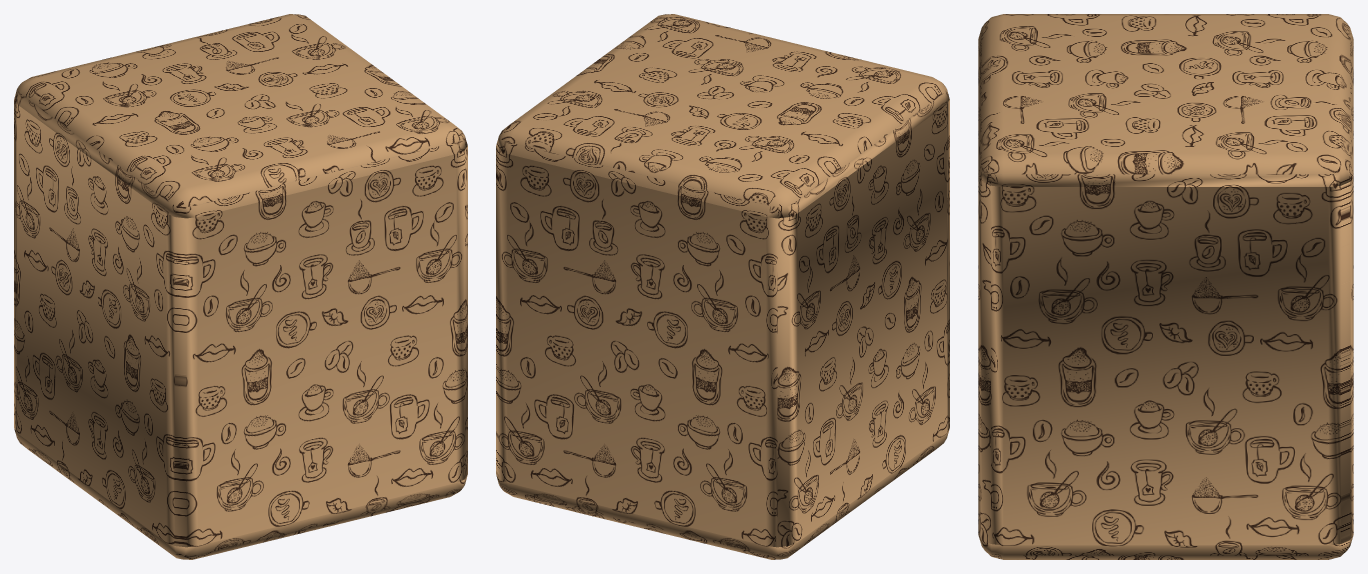
File: Boxed_goods_1.fbx
3 renders of one model, left to right at view 1: azimuth 30°, elevation 25°; view 2: azimuth 150°, elevation 25°; view 3: azimuth 270°, elevation 25°, orthographic. The views are drawn at different scales.
Visible parts, largest first — view 1: Boxed_goods_1; view 2: Boxed_goods_1; view 3: Boxed_goods_1.
Boxes of the visible parts, x1,y1,x2,y2 form: Boxed_goods_1: (14, 14, 467, 559); Boxed_goods_1: (496, 14, 949, 559); Boxed_goods_1: (978, 14, 1353, 559).
Bounding box in the file's own units: 10.58 × 12.57 × 10.58.
